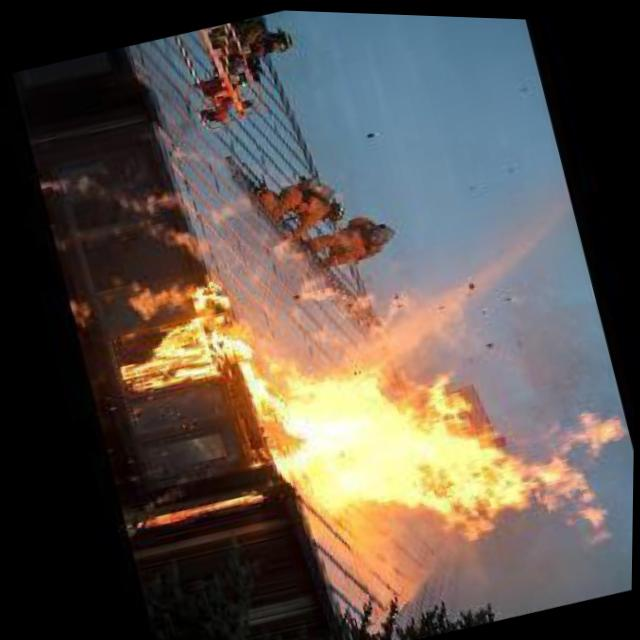Fire: (249, 274, 637, 619), (290, 235, 474, 373), (97, 257, 265, 406), (40, 142, 185, 237), (132, 480, 274, 545), (131, 194, 241, 277), (193, 183, 265, 232), (167, 128, 228, 177), (262, 227, 313, 273)
